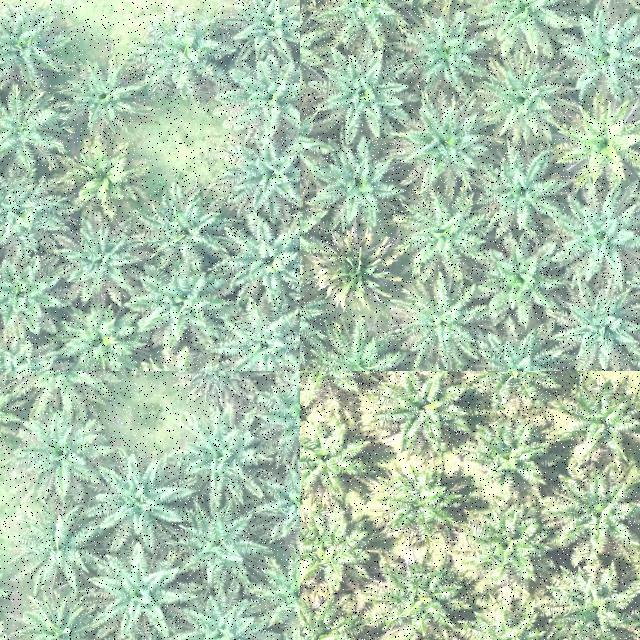Ganoderma: (80, 158, 126, 197)
